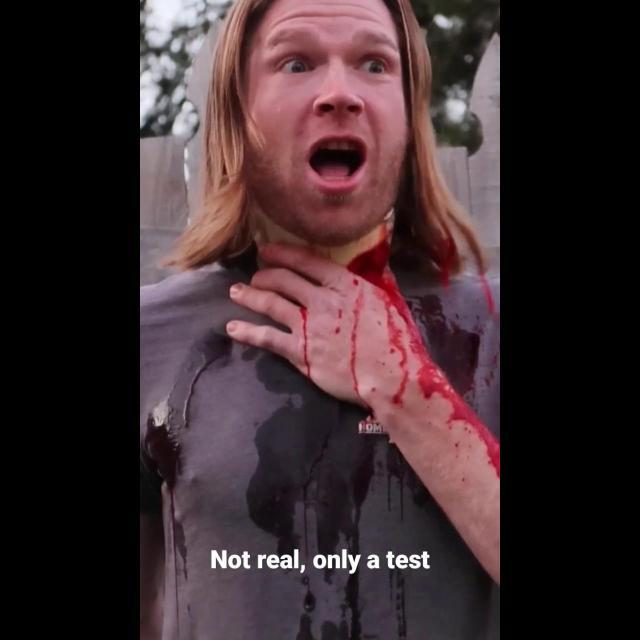blood: (326, 224, 499, 471), (431, 236, 462, 286), (299, 306, 314, 382)
